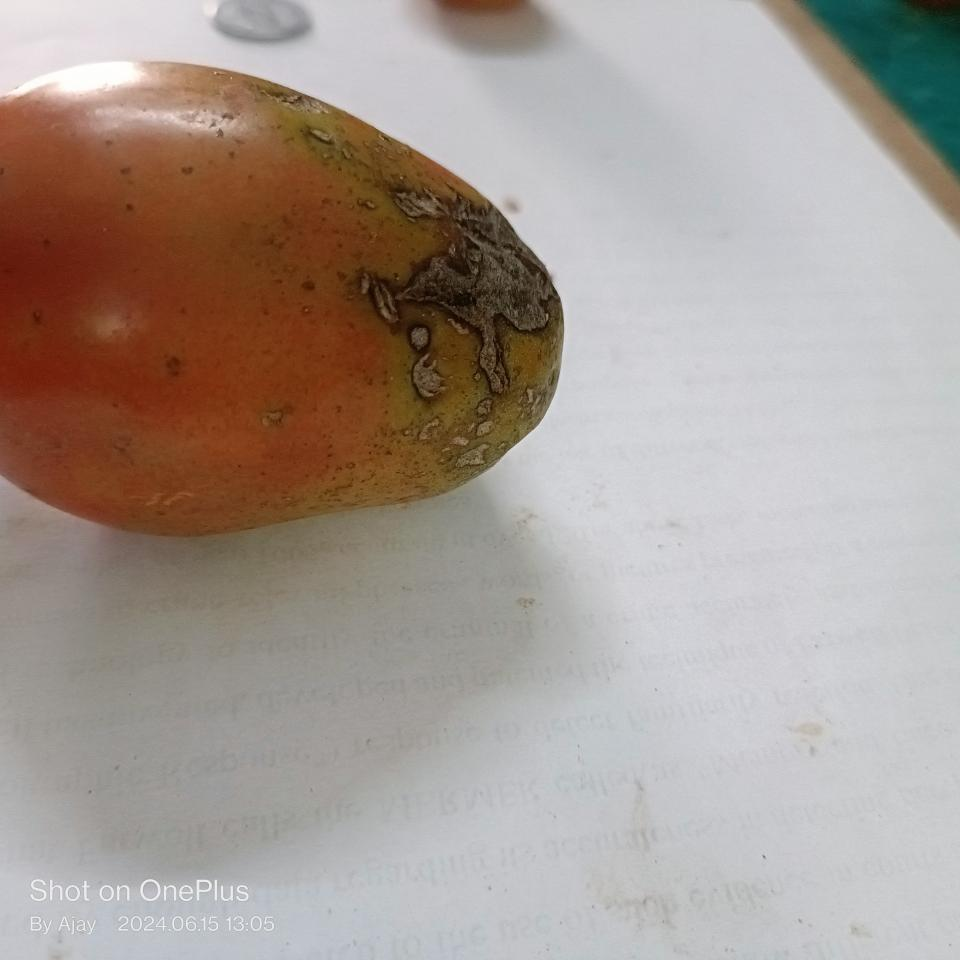Bacterial_Spot: (359, 188, 558, 404)
